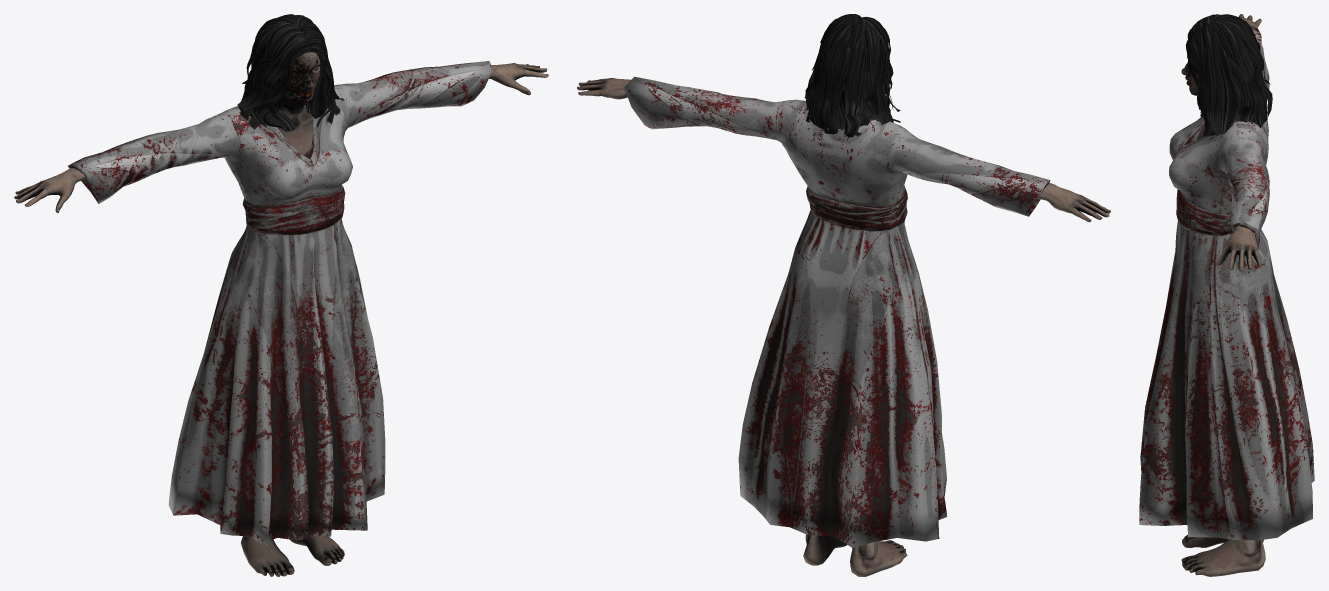
Rendered from ghostly_woman.glb.
3 renders of one model, left to right at view 1: azimuth 30°, elevation 25°; view 2: azimuth 150°, elevation 25°; view 3: azimuth 270°, elevation 25°, orthographic.
Parts seen in each view (by area): view 1: Object_3, Object_4, Object_2; view 2: Object_3, Object_2, Object_4; view 3: Object_3, Object_2, Object_4.
Part boxes in pixels (x1,y1,x2,y2): Object_3: (68,61,491,545); Object_4: (14,52,548,576); Object_2: (237,14,344,131); Object_3: (624,76,1050,547); Object_2: (804,14,900,137); Object_4: (577,78,1110,576); Object_3: (1139,25,1314,540); Object_2: (1186,14,1272,136); Object_4: (1181,14,1265,576).
Size of the model in its own units: 182 by 177 by 52.25.
Materials: 3 (3 with a texture image).
